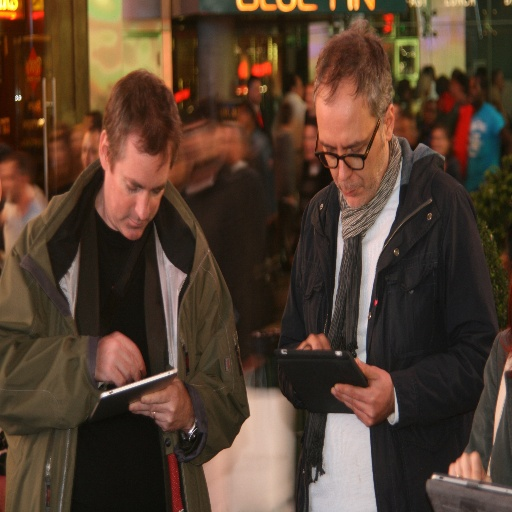hand: (330, 356, 396, 432), (87, 316, 146, 395), (126, 375, 192, 434), (445, 449, 493, 483), (293, 330, 331, 353)
